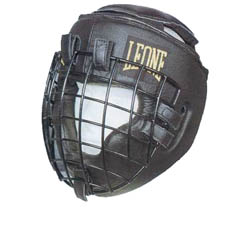helmet: (47, 12, 197, 177)
